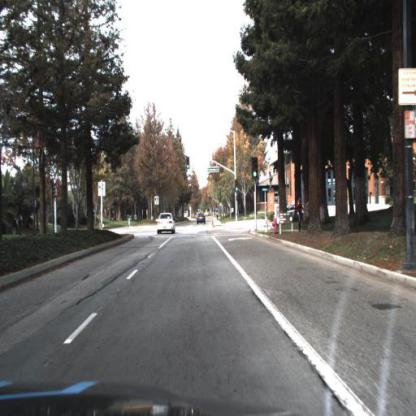car: (156, 211, 178, 238), (280, 199, 305, 222), (296, 195, 306, 235), (196, 211, 208, 227)
pedestrian: (295, 195, 303, 230)
trafficLight-Green: (252, 156, 260, 180), (235, 179, 240, 195), (186, 157, 191, 172), (186, 156, 191, 170)
